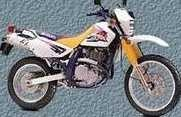motorcycle: (1, 8, 180, 116)
